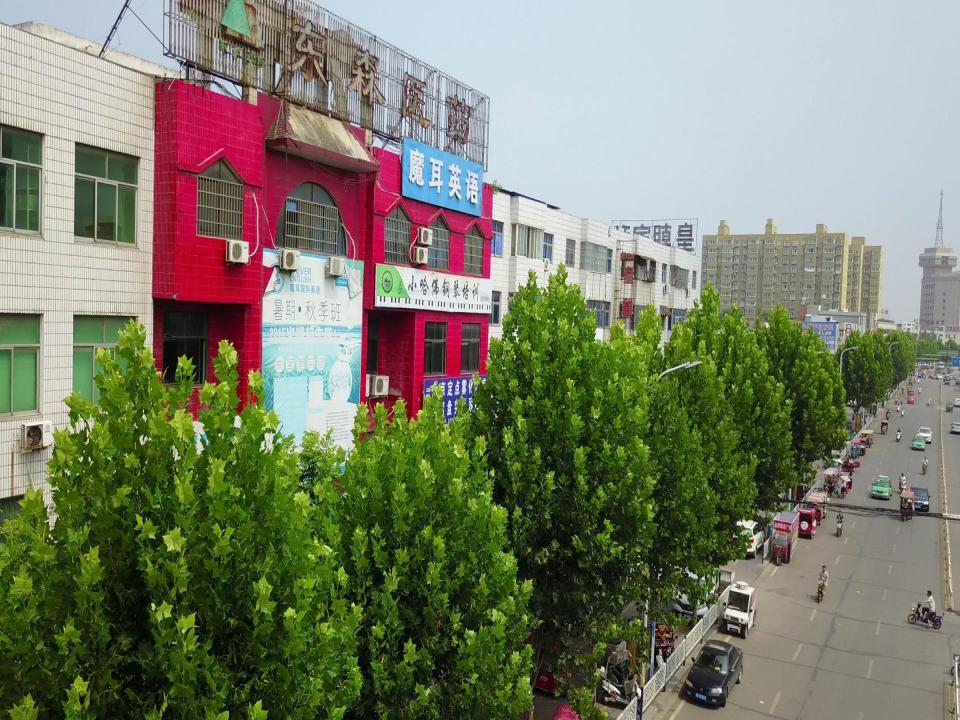car: (682, 638, 744, 708), (670, 552, 722, 623), (722, 580, 758, 640), (726, 514, 774, 559), (794, 506, 818, 539), (906, 483, 932, 512), (871, 474, 893, 501), (916, 426, 934, 444), (911, 435, 926, 451), (846, 389, 858, 407), (949, 420, 960, 434), (907, 393, 915, 405), (952, 397, 960, 407)
